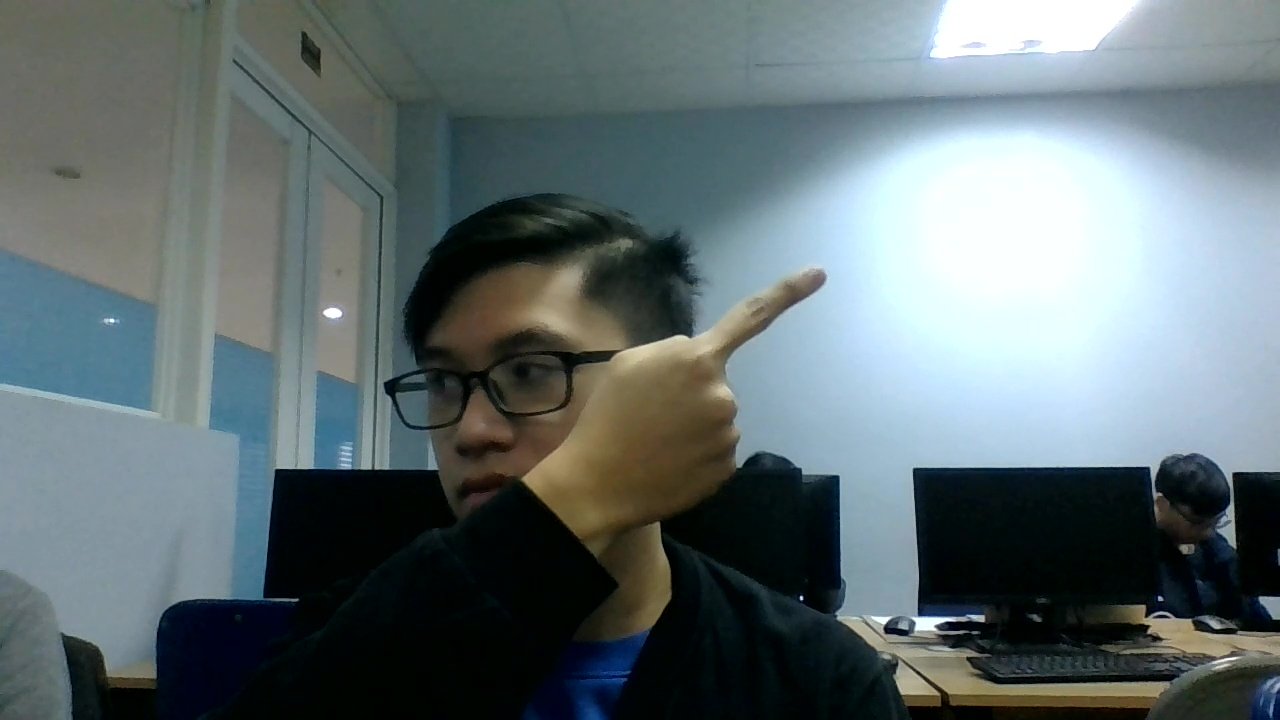left: (564, 255, 829, 531)
